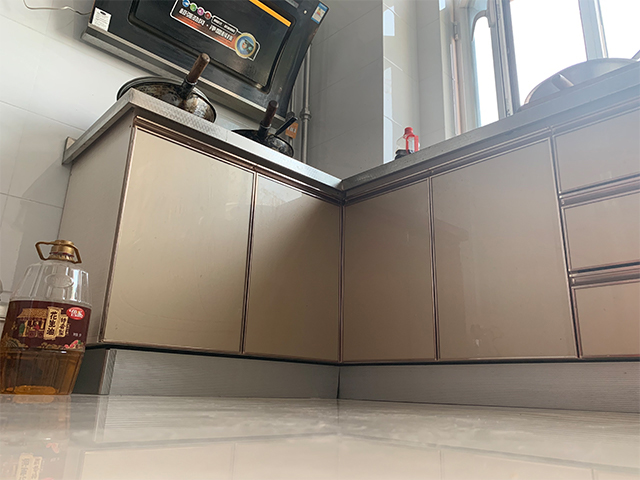cabinet: (341, 89, 640, 415), (41, 73, 340, 399)
